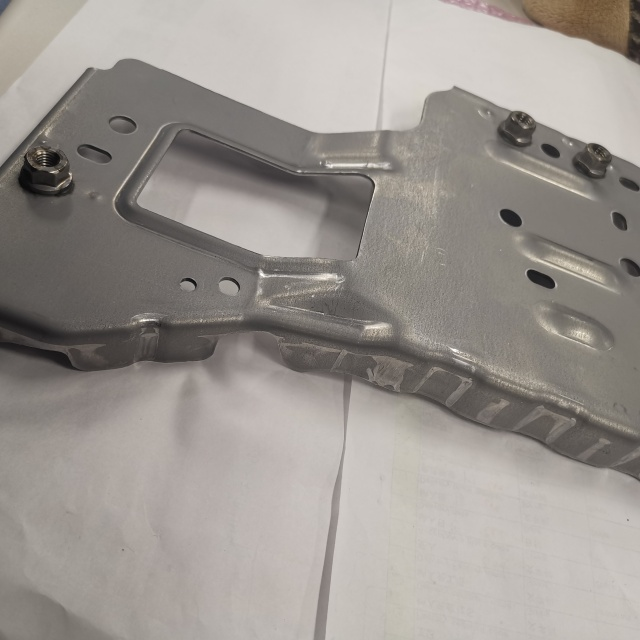dog: (17, 144, 76, 198), (570, 140, 613, 181), (496, 108, 537, 150)
